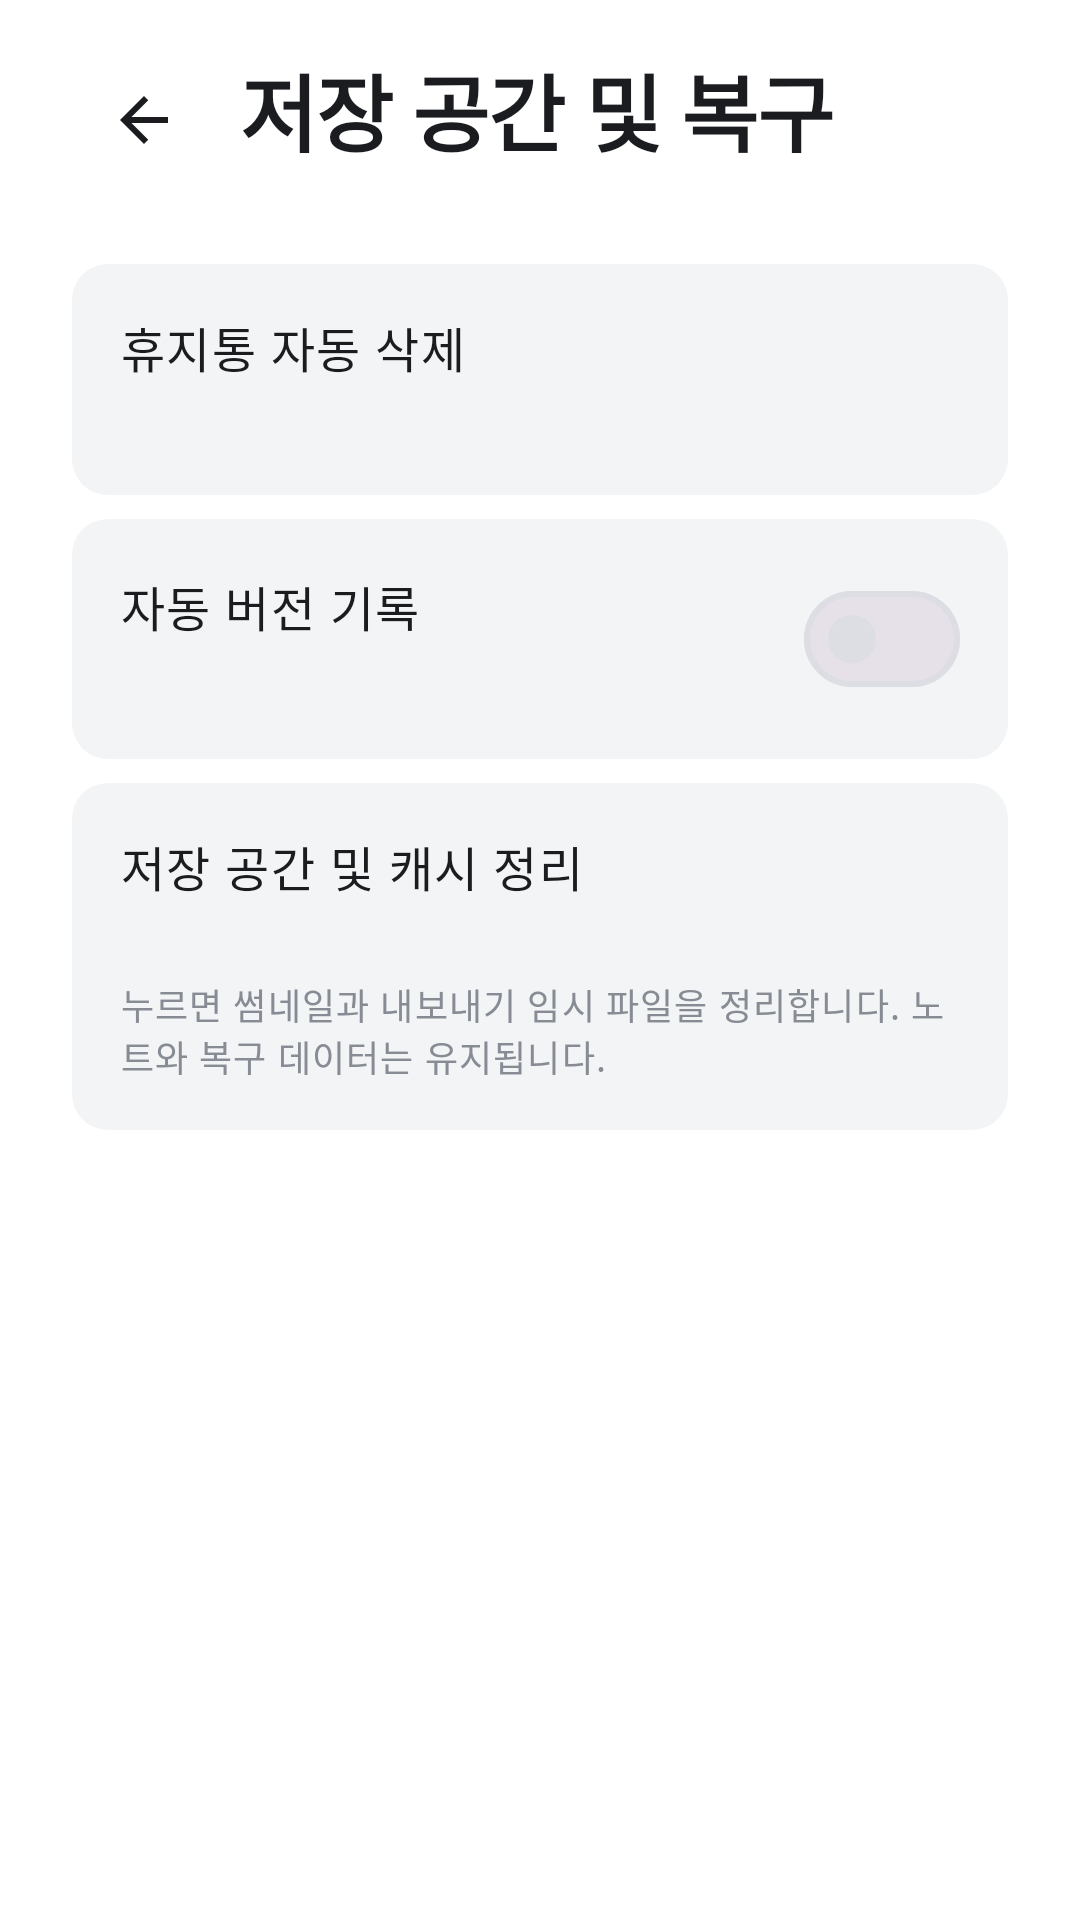

Named icons in this screenshot (1080w x 1920h) and their bounding boxes, Rect(x1, y1, x2, y2):
뒤로: Rect(120, 96, 168, 144)
